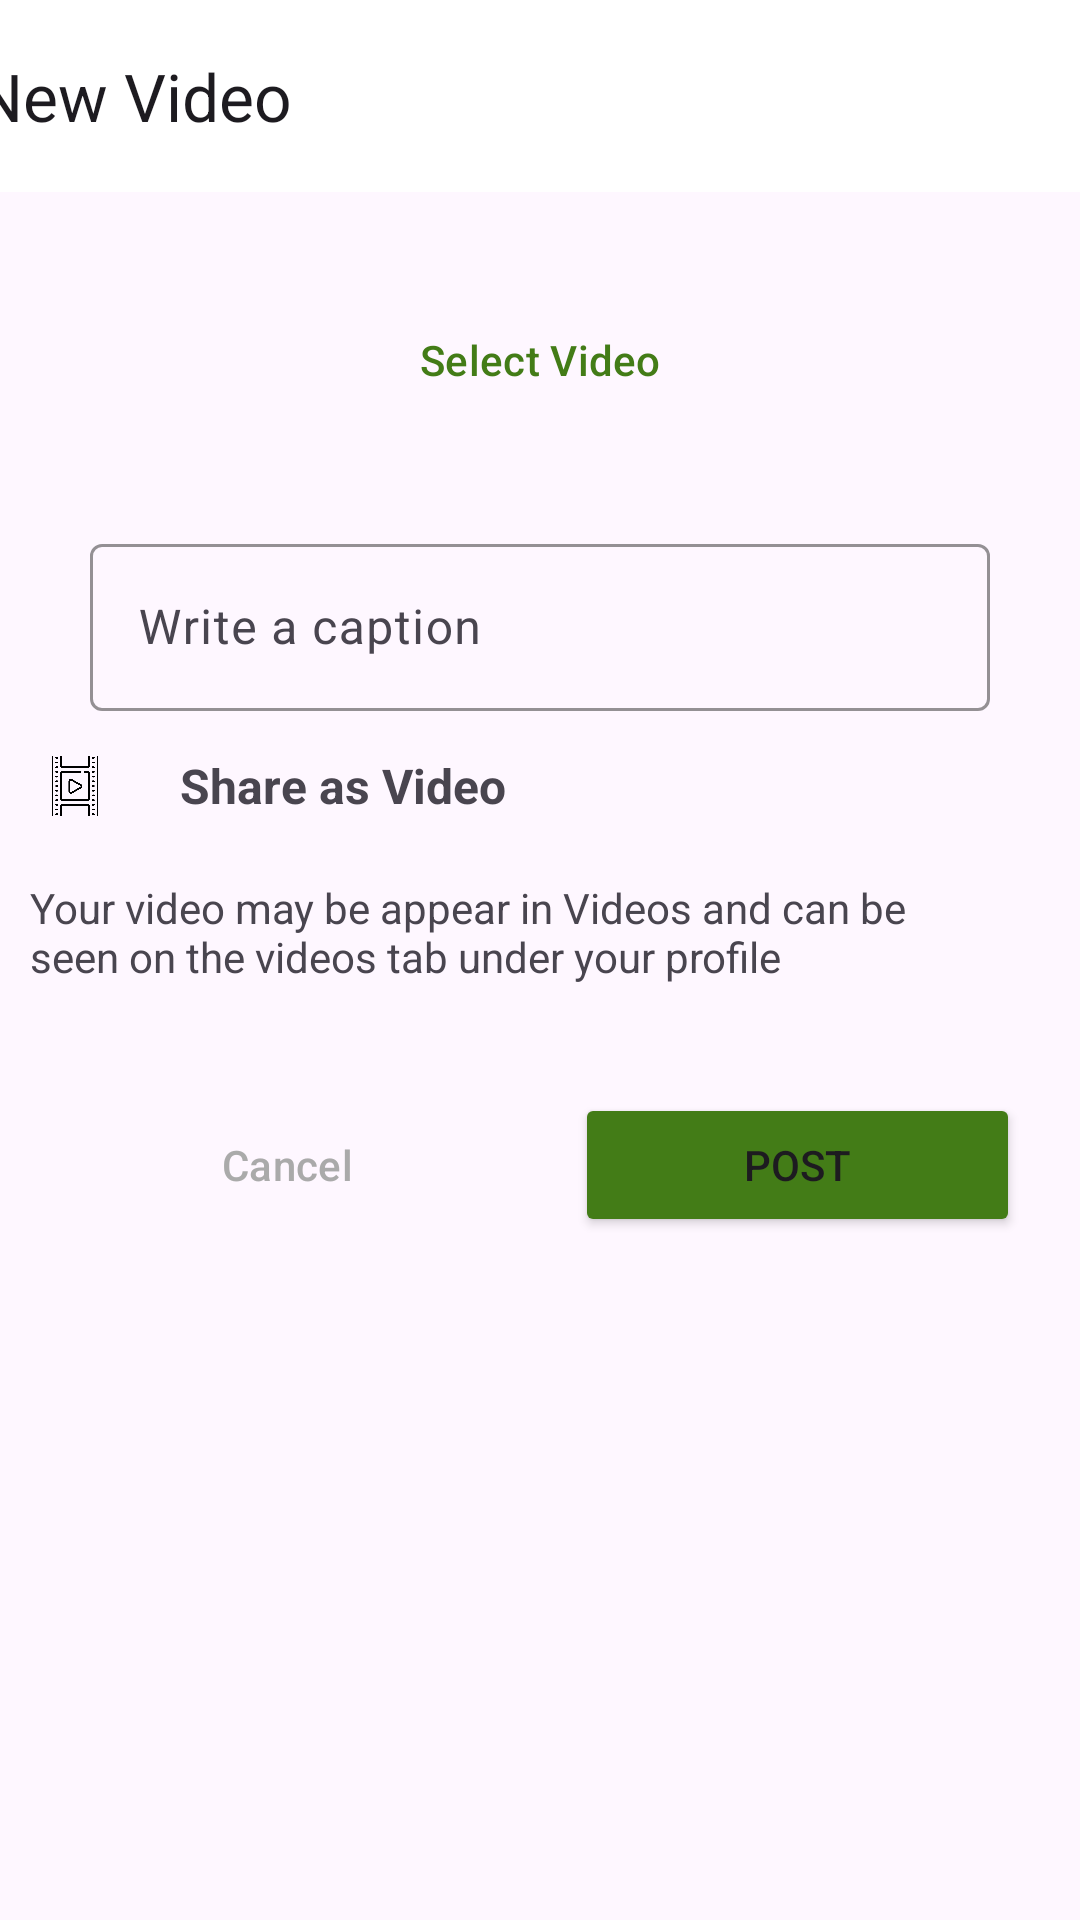

Screen size 1080x1920. Icon name, then its box in pixels as (x1, y1, x2, y2):
filmreel: (52, 756, 98, 816)
